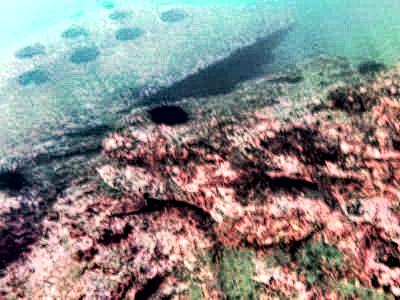urchin: (146, 105, 187, 126), (2, 168, 31, 193)
